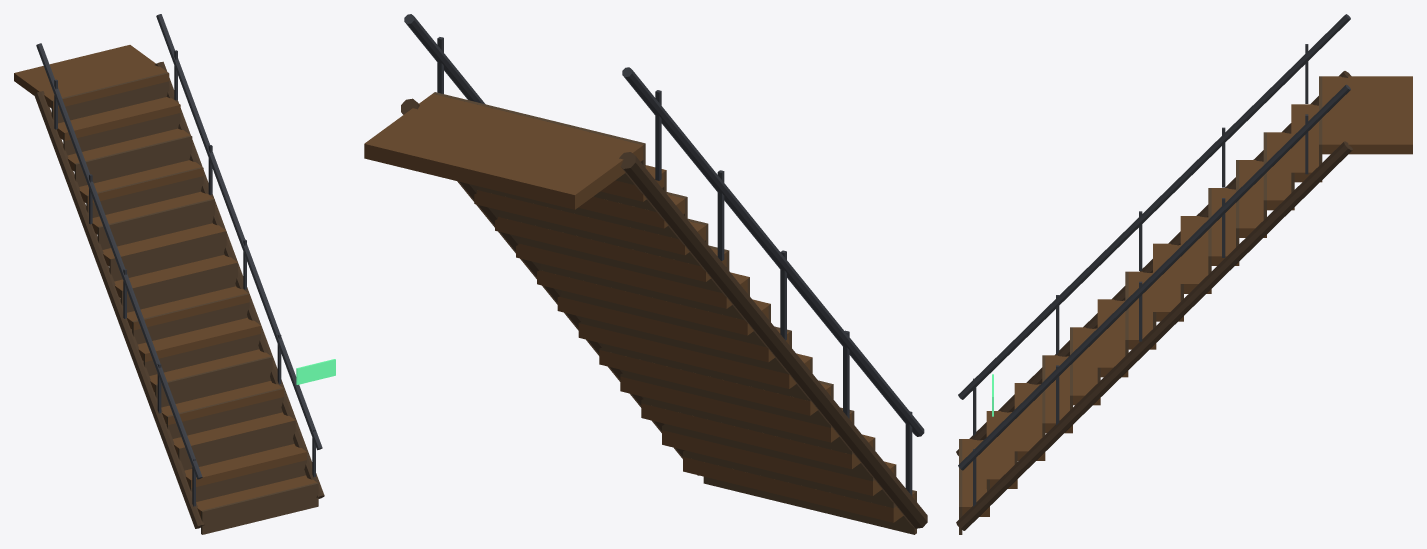
Rendered from staircase.glb.
3 views of the same model, side by side, from view 1: azimuth 30°, elevation 25°; view 2: azimuth 150°, elevation 25°; view 3: azimuth 270°, elevation 25° (orthographic). The views are drawn at different scales.
Parts seen in each view (by area): view 1: part-riser, part-wood, part-handrail, part-stringer, part-sign-green; view 2: part-wood, part-riser, part-stringer, part-handrail; view 3: part-wood, part-handrail, part-stringer, part-riser.
Boxes of the visible parts, <box> form: part-riser: <box>51,72,318,534</box>; part-wood: <box>14,45,316,517</box>; part-handrail: <box>36,14,322,506</box>; part-stringer: <box>34,61,324,528</box>; part-sign-green: <box>296,359,335,384</box>; part-wood: <box>364,94,914,522</box>; part-riser: <box>433,92,916,534</box>; part-stringer: <box>401,98,927,528</box>; part-handrail: <box>404,14,924,495</box>; part-wood: <box>962,76,1412,516</box>; part-handrail: <box>958,14,1350,506</box>; part-stringer: <box>956,71,1352,530</box>; part-riser: <box>959,76,1322,534</box>.
Bounding box in the file's own units: 39.7 × 92.48 × 84.88.
